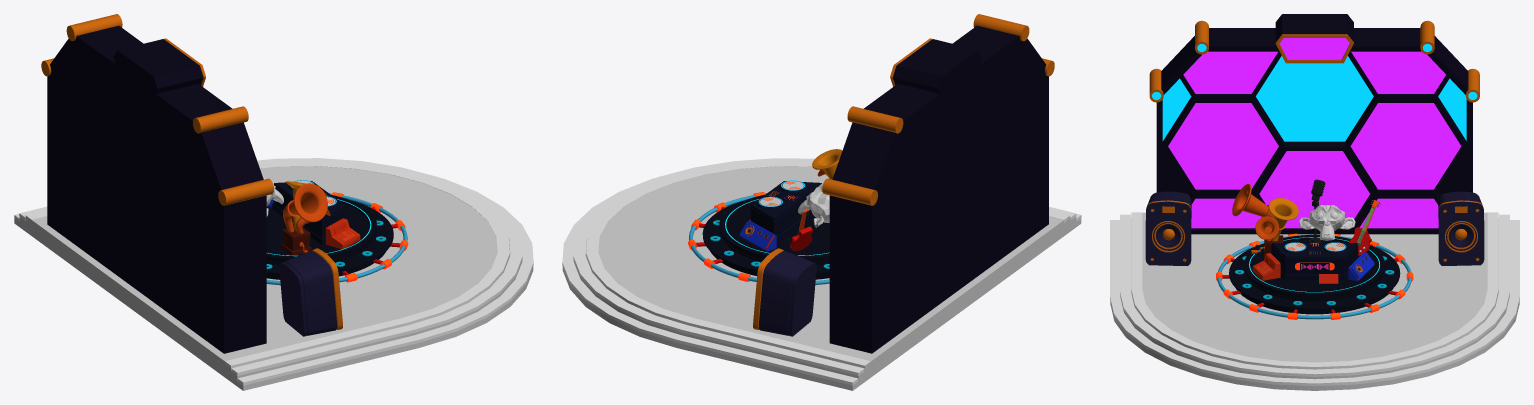
The model's file is Rythemeeee.fbx.
3 views of the same model, side by side, from view 1: azimuth 30°, elevation 25°; view 2: azimuth 150°, elevation 25°; view 3: azimuth 270°, elevation 25° (orthographic). The views are drawn at different scales.
Visible parts, largest first — view 1: Cube.146, Circle, Circle.003, Circle.005, Cube.334.frozen.002, Circle.006, Cylinder.008, Circle.002, Vert.043, Circle.001, Cube.147, Vert.040 (+6 smaller); view 2: Cube.146, Circle, Circle.003, Circle.005, Cube.334.frozen.002, Circle.006, Cylinder.008, Circle.002, Vert.043, Circle.001, Cube.332.frozen, Cube.147 (+8 smaller); view 3: Circle, Cylinder, Cube.146, Cylinder.005, Cylinder.004, Cube.334.frozen.002, Cylinder.007, Circle.005, Circle.006, Circle.003, Cylinder.009, Cylinder.008 (+20 smaller).
Part boxes in pixels (x1,y1,x2,y2): Cube.146: [47, 25, 266, 353]; Circle: [26, 166, 509, 370]; Circle.003: [25, 161, 509, 368]; Circle.005: [19, 158, 522, 375]; Cube.334.frozen.002: [279, 248, 342, 336]; Circle.006: [14, 178, 533, 385]; Cylinder.008: [114, 38, 205, 93]; Circle.002: [14, 218, 533, 390]; Vert.043: [266, 195, 376, 264]; Circle.001: [19, 217, 522, 381]; Cube.147: [66, 14, 248, 133]; Vert.040: [266, 201, 393, 279]; Cube.146: [829, 25, 1048, 353]; Circle: [586, 166, 1069, 370]; Circle.003: [586, 161, 1069, 368]; Circle.005: [573, 158, 1076, 375]; Cube.334.frozen.002: [753, 248, 816, 336]; Circle.006: [562, 178, 1081, 385]; Cylinder.008: [890, 38, 982, 93]; Circle.002: [562, 218, 1081, 390]; Vert.043: [719, 194, 829, 264]; Circle.001: [573, 217, 1076, 381]; Cube.332.frozen: [750, 181, 821, 242]; Cube.147: [847, 14, 1029, 133]; Circle: [1131, 212, 1498, 362]; Cylinder: [1162, 97, 1466, 194]; Cube.146: [1156, 28, 1472, 234]; Cylinder.005: [1180, 51, 1449, 99]; Cylinder.004: [1256, 56, 1373, 141]; Cube.334.frozen.002: [1145, 191, 1484, 265]; Cylinder.007: [1254, 141, 1375, 229]; Circle.005: [1120, 214, 1509, 376]; Circle.006: [1110, 220, 1519, 386]; Circle.003: [1131, 212, 1498, 369]; Cylinder.009: [1189, 192, 1440, 229]; Cylinder.008: [1275, 14, 1353, 63].
Bounding box in the file's own units: 883 × 935 × 545.
